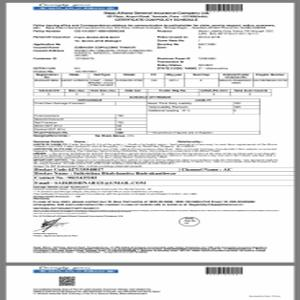table: (33, 99, 261, 135), (32, 72, 289, 87), (33, 88, 272, 98)
text: (31, 23, 276, 71), (31, 137, 281, 165), (103, 10, 211, 23)
